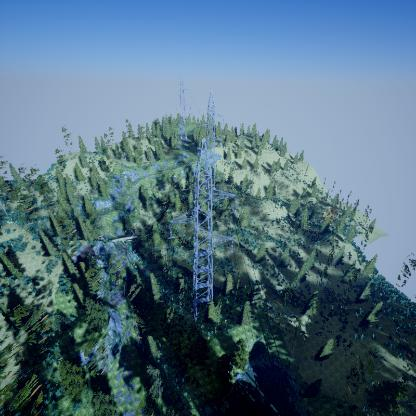tower: (162, 135, 243, 323)
